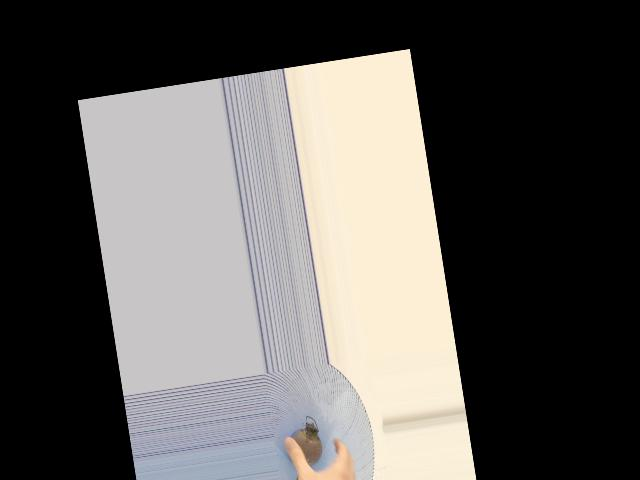beet: (277, 414, 329, 480)
